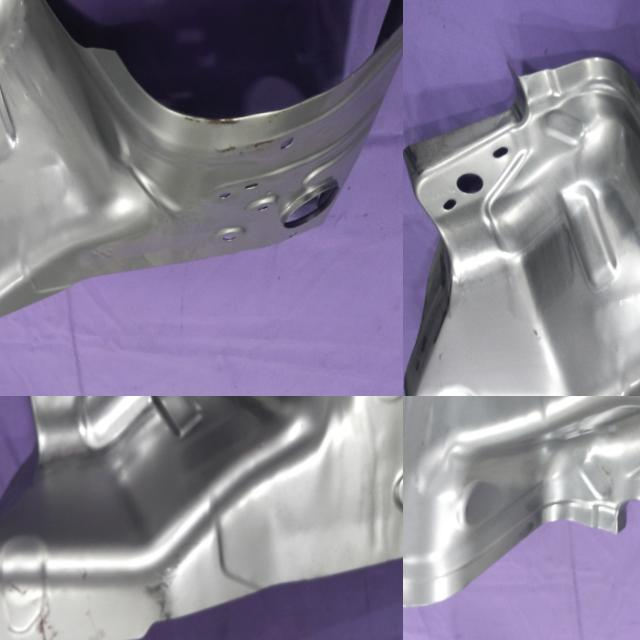Defect: (32, 0, 118, 55)
Healthy: (403, 396, 640, 618)
rust: (0, 558, 194, 640), (158, 95, 305, 173)
